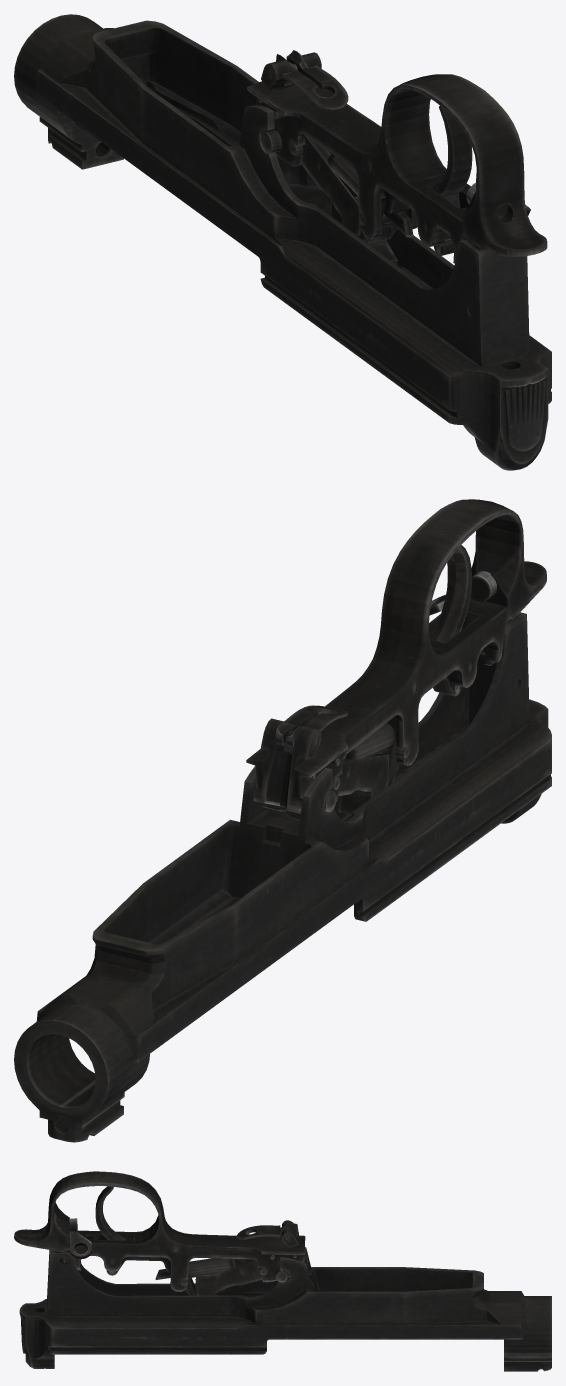
3 views of the same model, one above another, from view 1: azimuth 30°, elevation 25°; view 2: azimuth 150°, elevation 25°; view 3: azimuth 270°, elevation 25° (orthographic). The views are drawn at different scales.
Parts seen in each view (by area): view 1: TW_643ea5b23db6f9f57107d9fd_PZ_Import; view 2: TW_643ea5b23db6f9f57107d9fd_PZ_Import; view 3: TW_643ea5b23db6f9f57107d9fd_PZ_Import.
Part boxes in pixels (bbox=[...]): TW_643ea5b23db6f9f57107d9fd_PZ_Import: bbox=[14, 14, 551, 470]; TW_643ea5b23db6f9f57107d9fd_PZ_Import: bbox=[14, 499, 551, 1142]; TW_643ea5b23db6f9f57107d9fd_PZ_Import: bbox=[14, 1171, 551, 1371].
Size of the model in its own units: 0.0199 by 0.1573 by 0.0618.
Materials: 1 (1 with a texture image).
